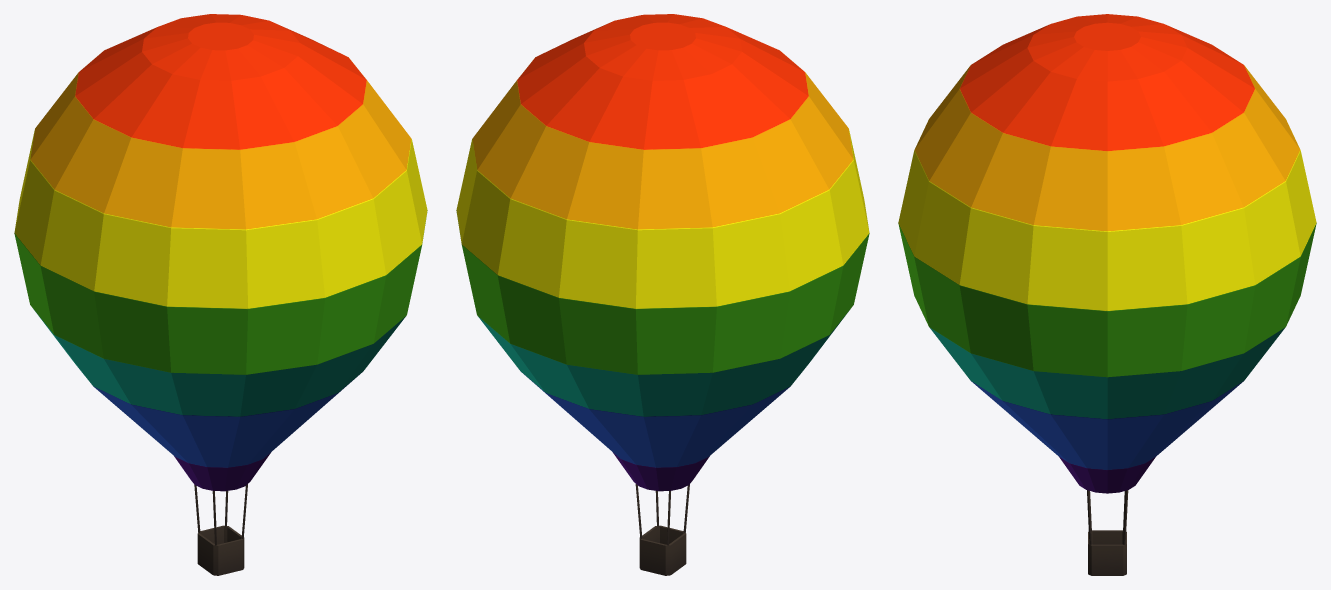
Rendered from prop_baloon_B.FBX.
3 views of the same model, side by side, from view 1: azimuth 30°, elevation 25°; view 2: azimuth 150°, elevation 25°; view 3: azimuth 270°, elevation 25° (orthographic).
Visible parts, largest first — view 1: prop_baloon_B; view 2: prop_baloon_B; view 3: prop_baloon_B.
Boxes of the visible parts, <box> form: prop_baloon_B: <box>14,14,427,575</box>; prop_baloon_B: <box>456,14,869,575</box>; prop_baloon_B: <box>898,14,1316,575</box>.
Size of the model in its own units: 591 by 828 by 591.
Materials: 1 (1 with a texture image).
